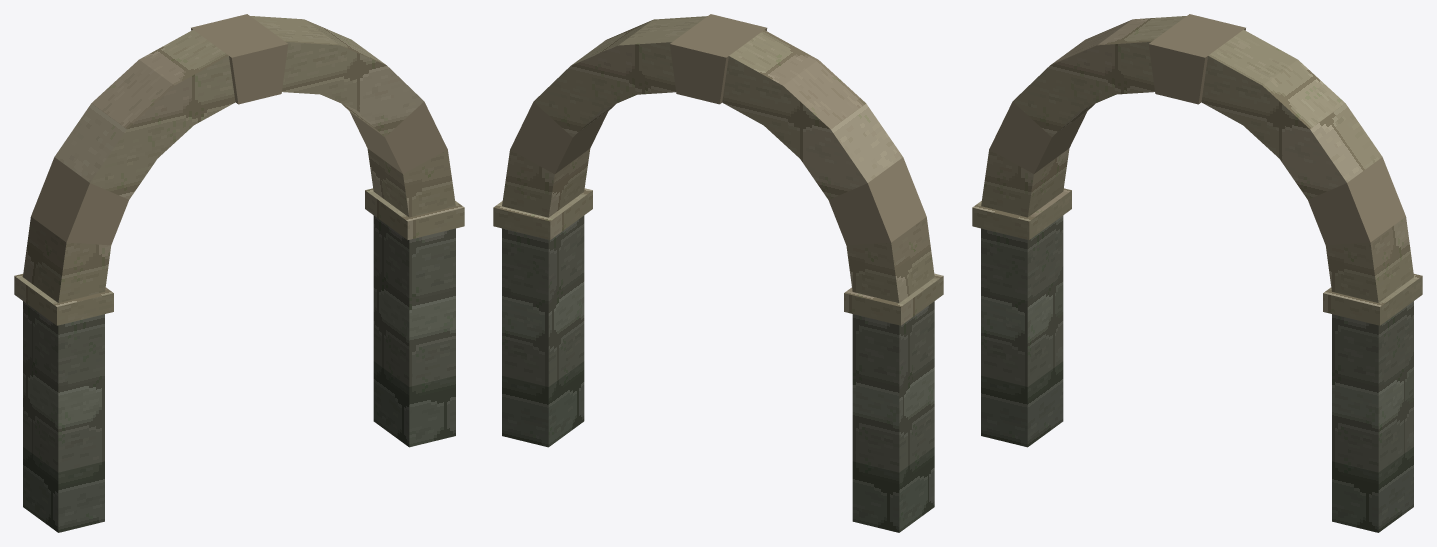
Rendered from stone_arch_rib.glb.
3 views of the same model, side by side, from view 1: azimuth 30°, elevation 25°; view 2: azimuth 150°, elevation 25°; view 3: azimuth 330°, elevation 25° (orthographic).
Parts seen in each view (by area): view 1: Stone arch rib; view 2: Stone arch rib; view 3: Stone arch rib.
Part boxes in pixels (x1,y1,x2,y2): Stone arch rib: (14,14,464,532); Stone arch rib: (493,14,943,532); Stone arch rib: (972,14,1422,532).
Size of the model in its own units: 2.05 by 2.09 by 0.372.
Materials: 4 (3 with a texture image).
